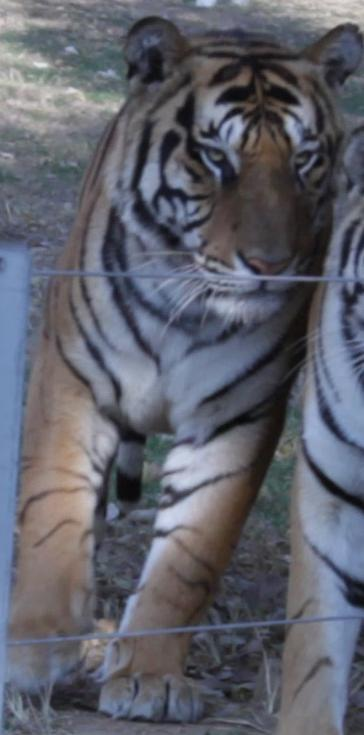tiger: (11, 17, 363, 639)
